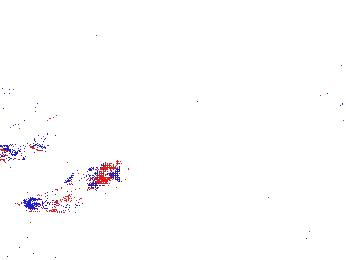red belly glassfish: (1, 136, 34, 165)
redtail glassfish: (63, 162, 127, 194)
